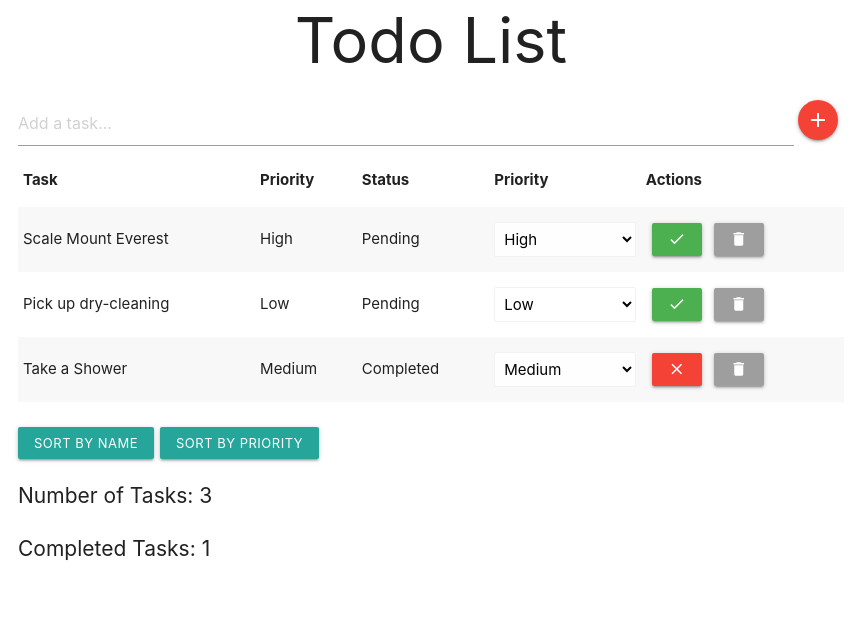
Test: App › should add an item to the list when a task is entered
Type "Go to the gym" into the field with id "task-item" at (406, 124), box [18,100,794,146]
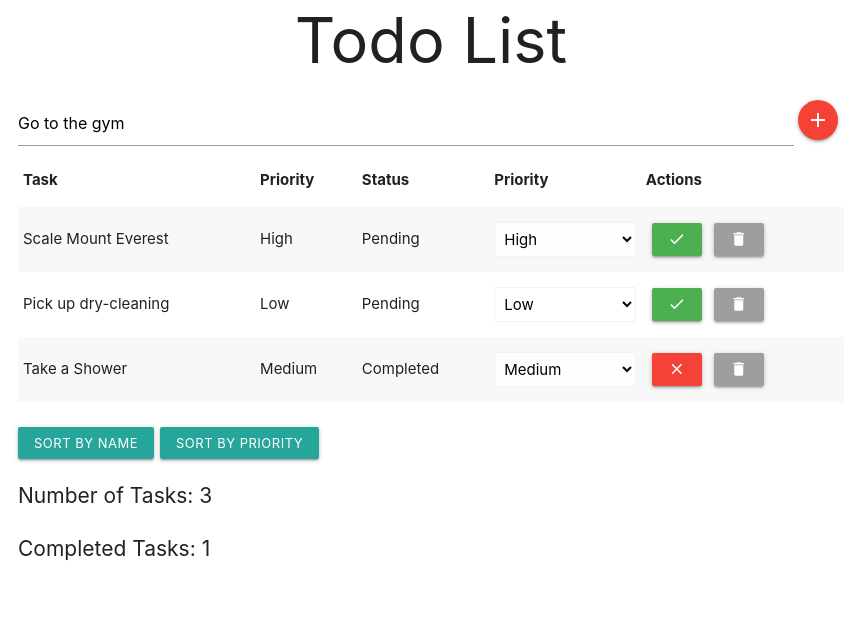
Click the button with id "add-task" at (818, 120), box [798,100,838,140]
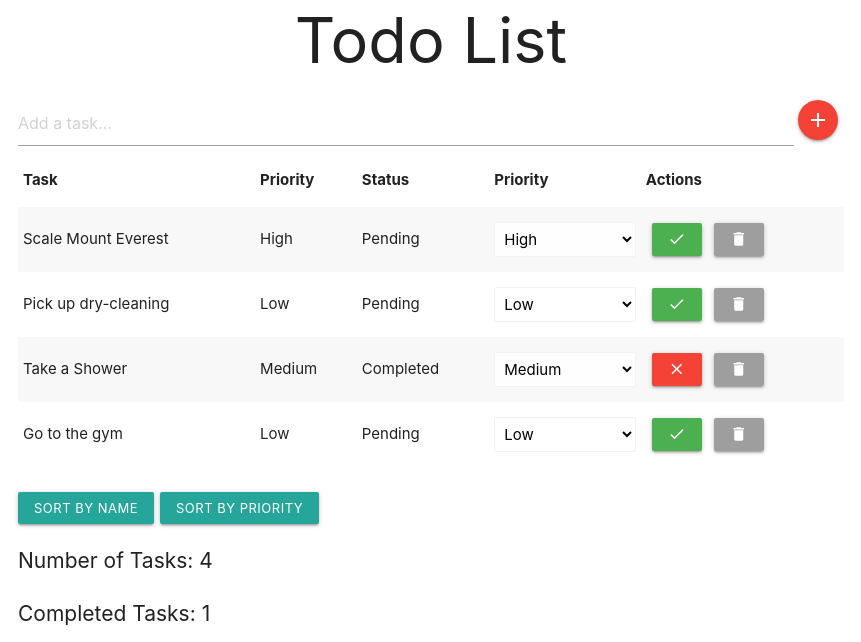
Expected: the row "Go to the gym Low Pending" is shown, [18,402,844,467]
